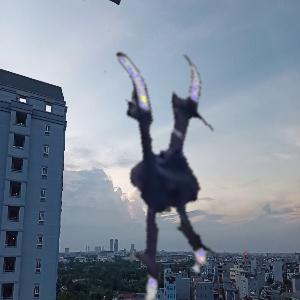drone: (17, 51, 265, 299)
